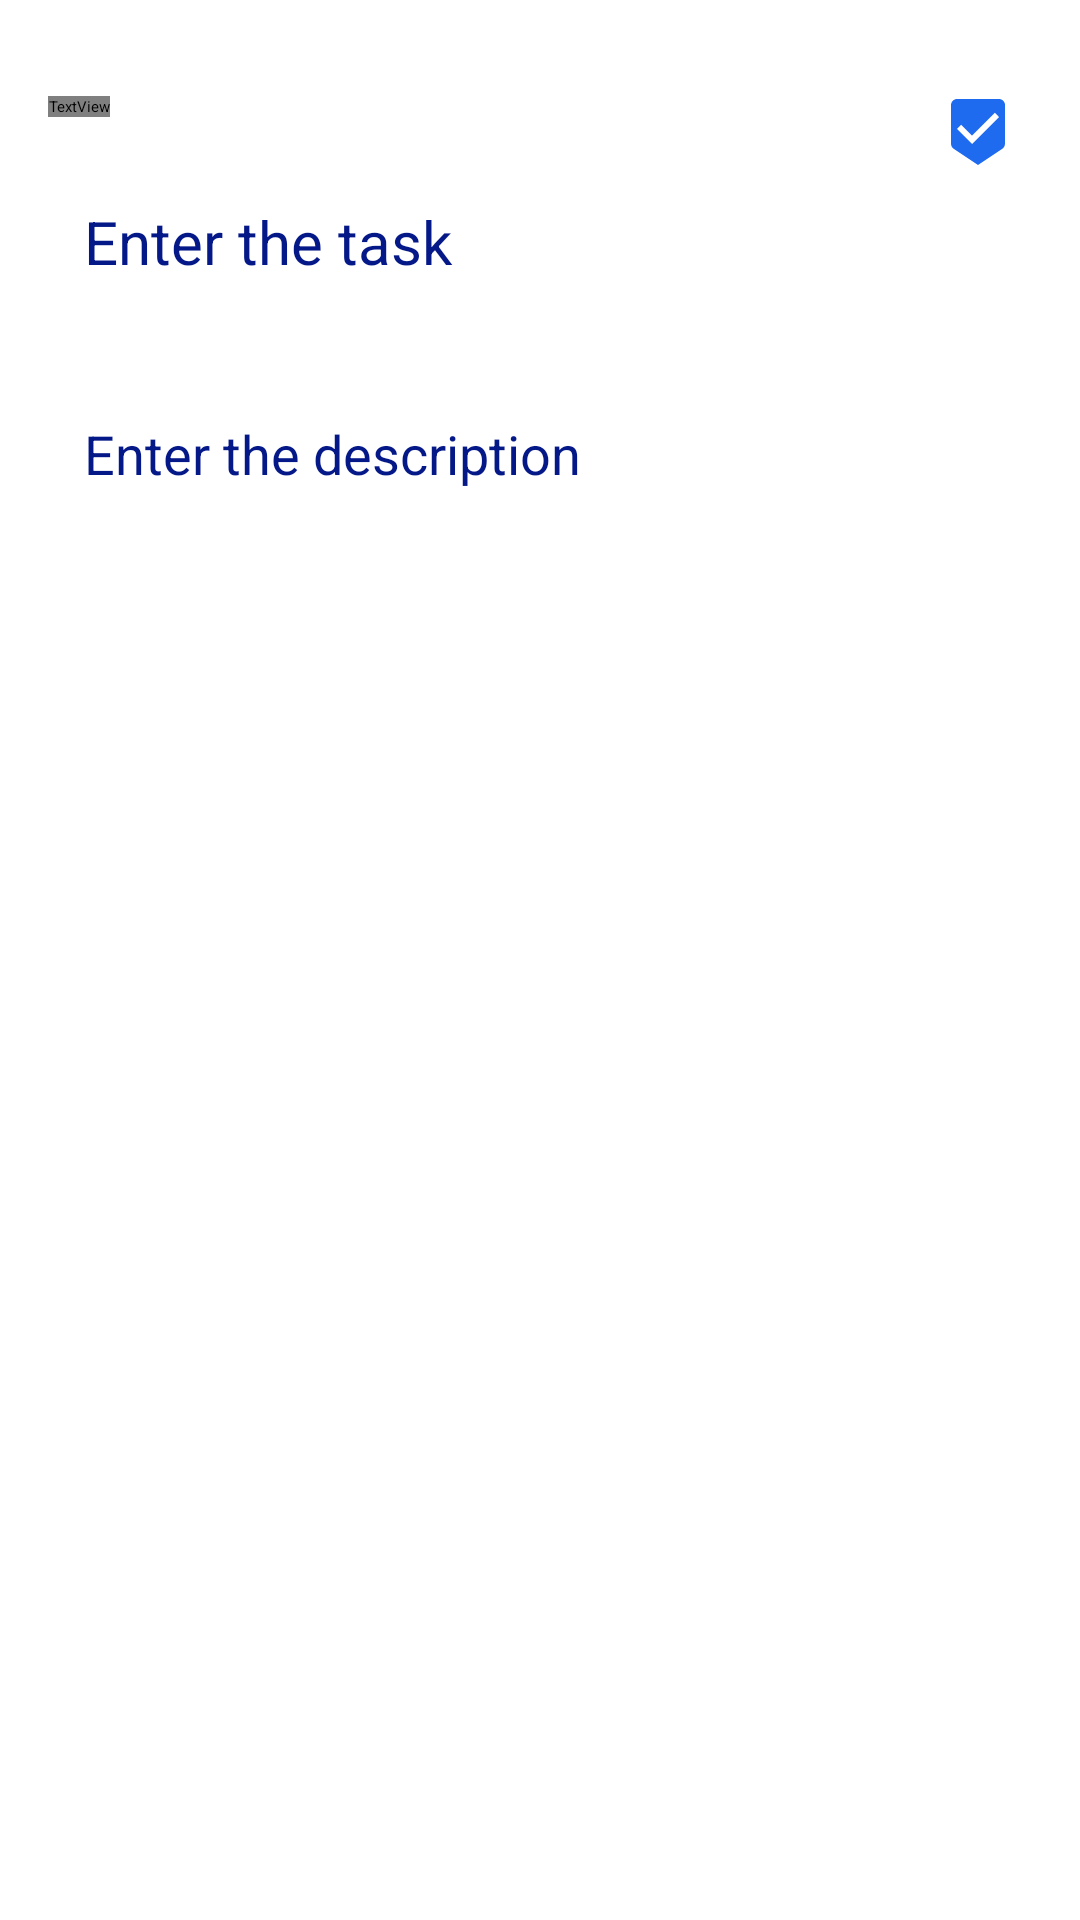

Icons on this 1080px×1920px Android screen, each with the point to tap as point (x, y):
beenhere: point (978, 132)
